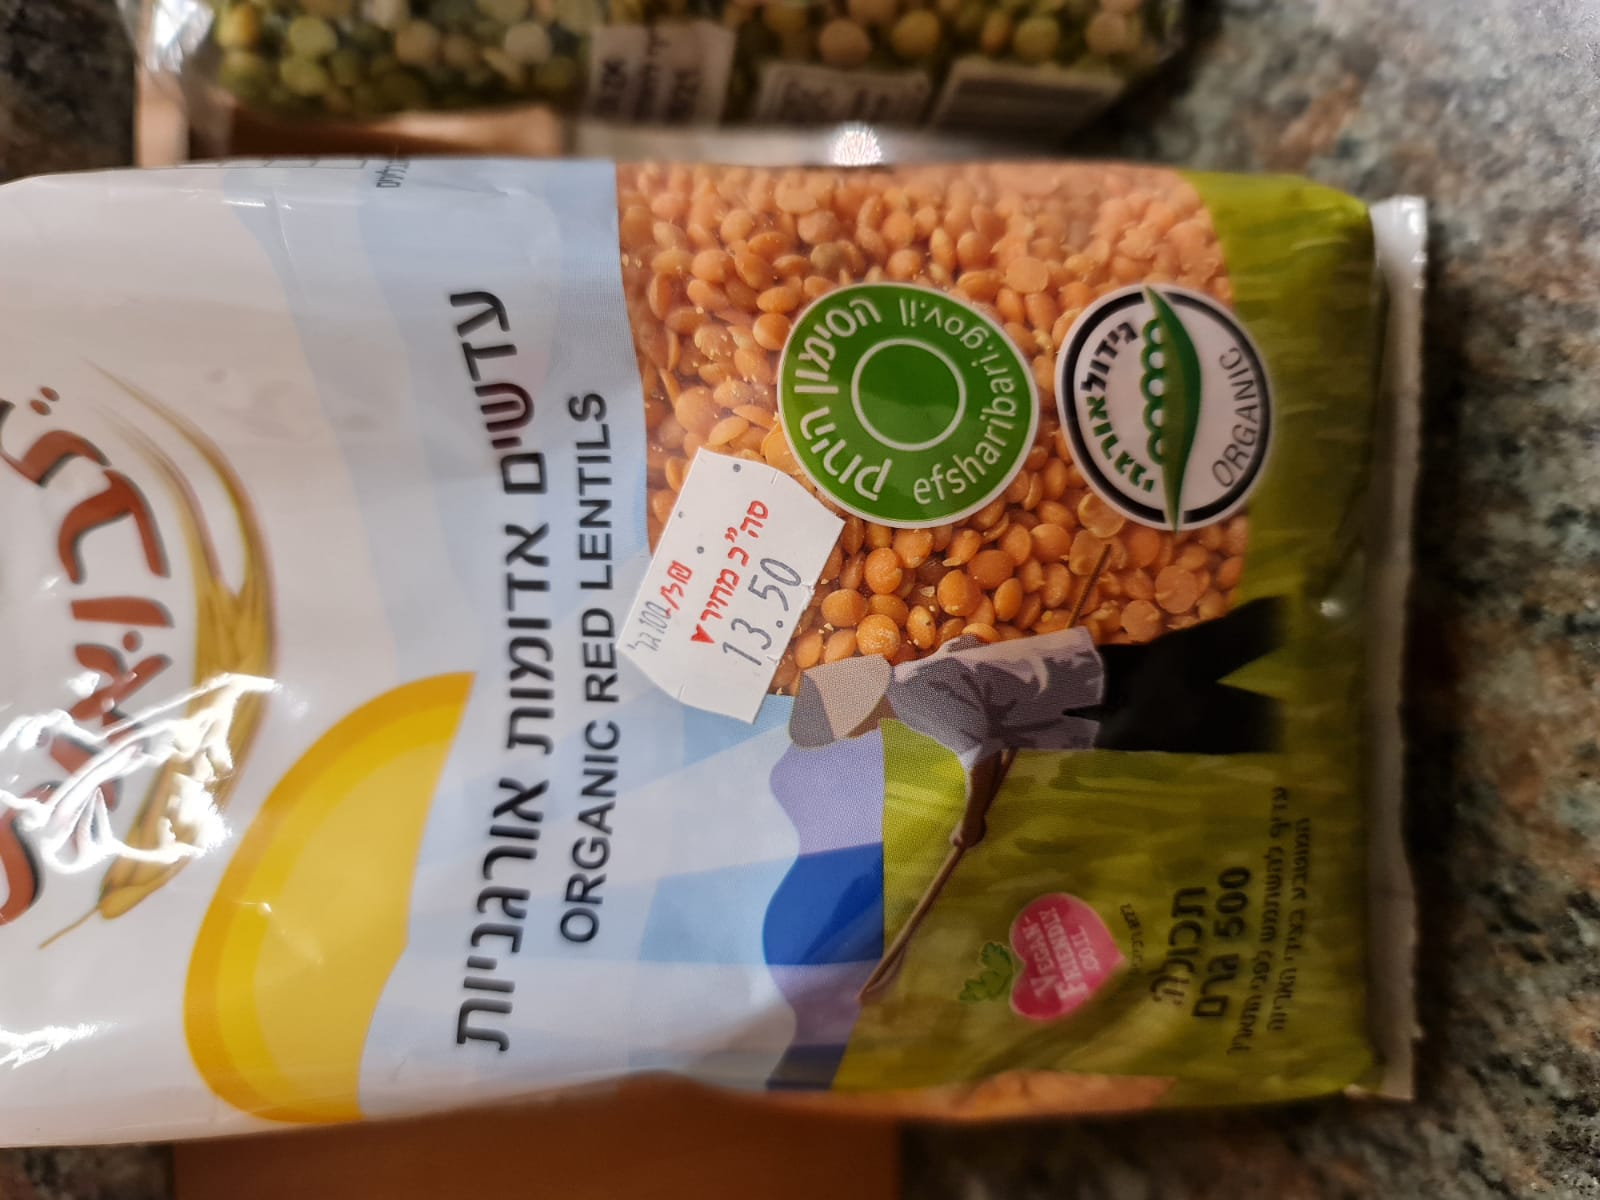green: (777, 281, 1041, 529)
